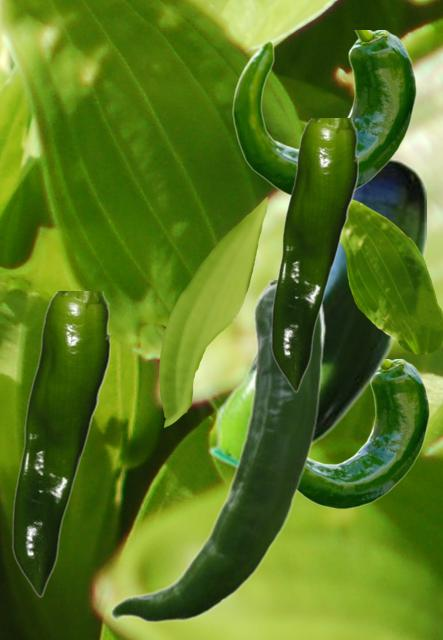green_chili: (109, 280, 325, 623), (207, 159, 425, 469), (232, 30, 416, 195), (11, 291, 109, 596), (270, 118, 357, 391), (299, 359, 429, 507)
